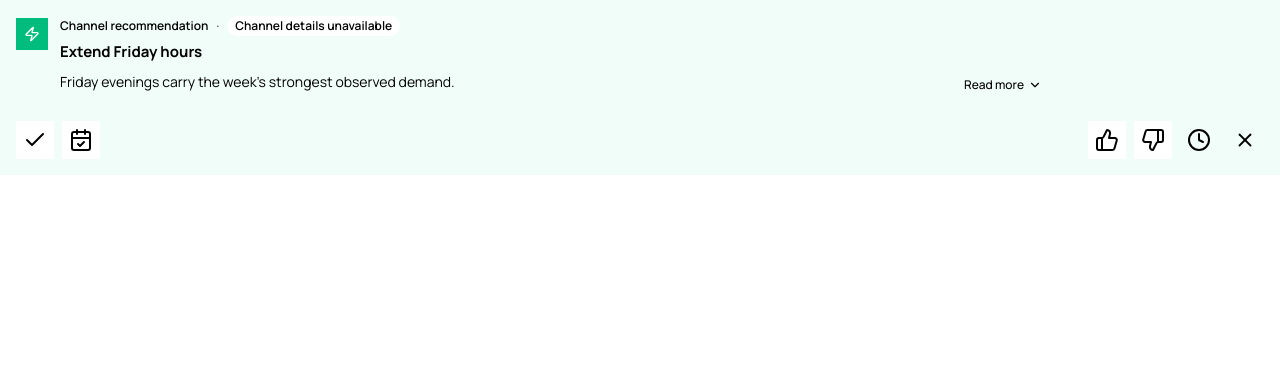
Test: IntelligenceCard compact shape › Read more toggles the full content and flips aria-expanded
Click the button "Read more".
click(1003, 85)  # box [964,77,1042,93]
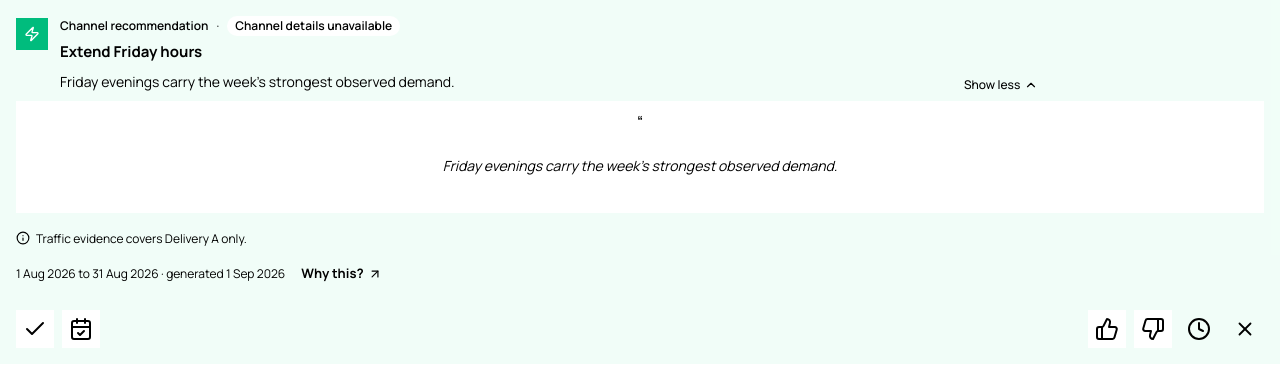
Expected: the button named "Read more" is expanded
Expected: the text "Traffic evidence covers Delivery A only." is shown, [36,229,247,249]
Expected: the text "1 Aug 2026 to 31 Aug 2026 · generated 1 Sep 2026" is shown, [16,266,285,282]
Click the button named "Read more".
click(1001, 85)  # box [964,77,1038,93]
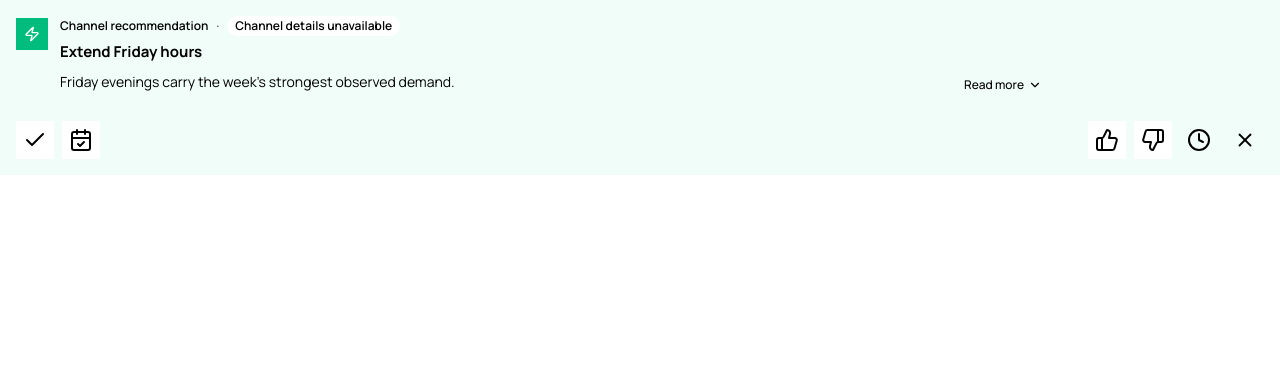
Expected: the button "Read more" is collapsed, [964,77,1042,93]
Expected: the text "Traffic evidence covers Delivery A only" is gone
Expected: the button "Why this" is gone
